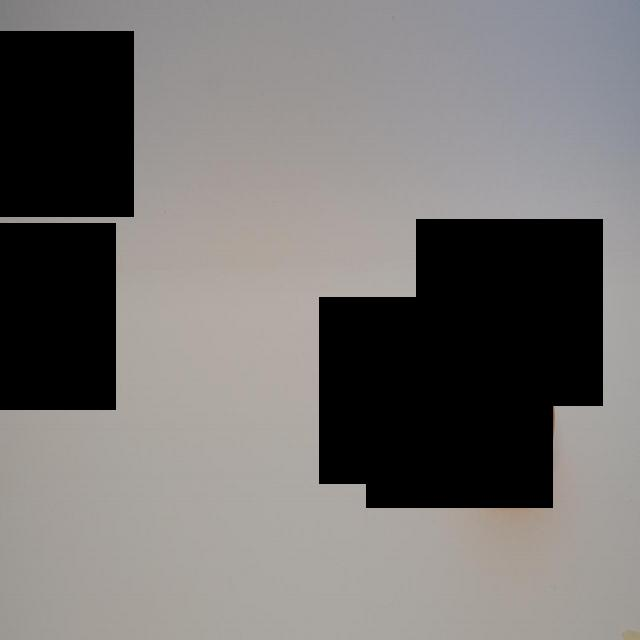tomato: (477, 348, 557, 487)
